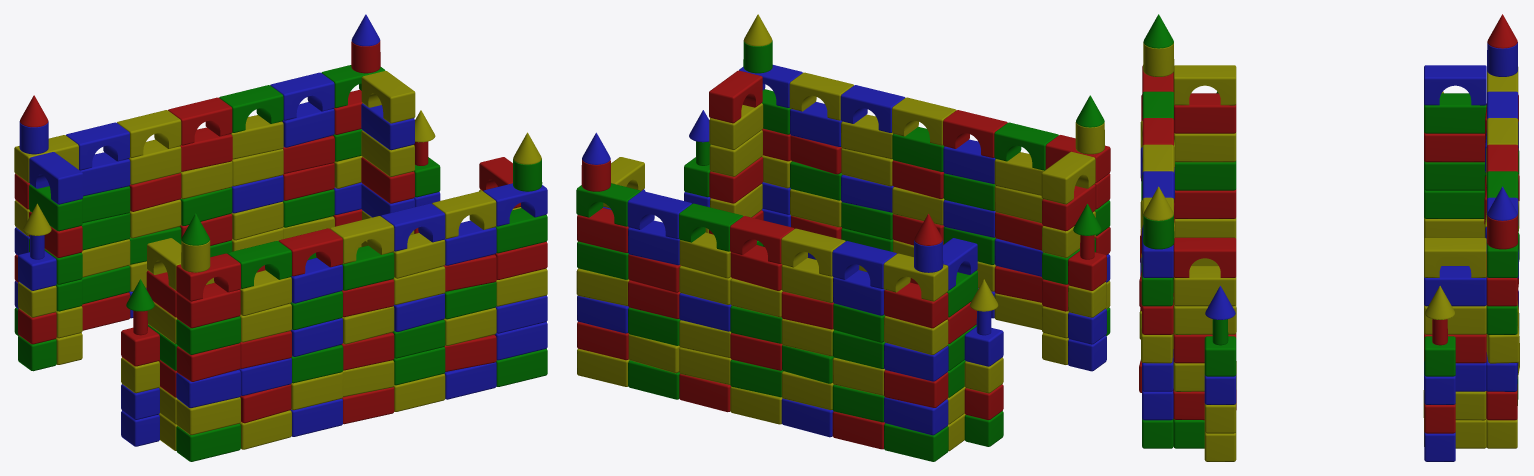
Rendered from toyCastleColored.fbx.
3 views of the same model, side by side, from view 1: azimuth 30°, elevation 25°; view 2: azimuth 150°, elevation 25°; view 3: azimuth 270°, elevation 25° (orthographic). The views are drawn at different scales.
Parts seen in each view (by area): view 1: pasted__pasted__polySurface14 (×2), pasted__pasted__pCube64 (×2), pasted__pasted__pasted__polySurface14, pCube64, polySurface14, polySurface4, polySurface9, polySurface10, polySurface12, polySurface5, polySurface11, polySurface15 (+104 smaller); view 2: pasted__pasted__pCube64 (×3), pasted__pasted__polySurface14 (×2), pasted__pasted__pCube81 (×3), pasted__polySurface14, pCube37, polySurface7, polySurface12, polySurface17, polySurface6, polySurface11, polySurface5, polySurface9 (+102 smaller); view 3: pasted__pasted__pCube64 (×3), pasted__pasted__pCube81 (×3), pasted__pasted__polySurface14 (×2), pasted__pasted__pCube61 (×3), pasted__pasted__pCube66 (×2), pasted__pasted__pCube45 (×2), pasted__polySurface14, pasted__pasted__pasted__polySurface14, pasted__pasted__pasted__pCube64, pasted__pCube45, pasted__pCube66, pasted__pasted__pasted__pCube81 (+49 smaller).
Part boxes in pixels (left/top/right/bottom): pasted__pasted__polySurface14 (×2): left=29, top=152, right=520, bottom=208; pasted__pasted__pCube64 (×2): left=29, top=184, right=177, bottom=317; pasted__pasted__pasted__polySurface14: left=361, top=71, right=415, bottom=123; pCube64: left=176, top=283, right=240, bottom=328; polySurface14: left=176, top=253, right=240, bottom=301; polySurface4: left=168, top=97, right=232, bottom=145; polySurface9: left=270, top=72, right=334, bottom=120; polySurface10: left=219, top=85, right=283, bottom=132; polySurface12: left=432, top=191, right=496, bottom=238; polySurface5: left=117, top=110, right=181, bottom=157; polySurface11: left=381, top=203, right=445, bottom=251; polySurface15: left=330, top=216, right=394, bottom=263; pasted__pasted__pCube64 (×3): left=709, top=103, right=1095, bottom=317; pasted__pasted__polySurface14 (×2): left=709, top=70, right=977, bottom=290; pasted__pasted__pCube81 (×3): left=709, top=130, right=1095, bottom=343; pasted__polySurface14: left=1041, top=151, right=1095, bottom=204; pCube37: left=884, top=282, right=948, bottom=328; polySurface7: left=883, top=253, right=948, bottom=301; polySurface12: left=789, top=72, right=853, bottom=120; polySurface17: left=994, top=122, right=1058, bottom=170; polySurface6: left=832, top=241, right=896, bottom=288; polySurface11: left=840, top=85, right=904, bottom=132; polySurface5: left=781, top=228, right=845, bottom=276; polySurface9: left=627, top=191, right=691, bottom=238; pasted__pasted__pCube64 (×3): left=1173, top=93, right=1486, bottom=306; pasted__pasted__pCube81 (×3): left=1173, top=132, right=1485, bottom=334; pasted__pasted__polySurface14 (×2): left=1173, top=65, right=1486, bottom=277; pasted__pasted__pCube61 (×3): left=1173, top=217, right=1484, bottom=420; pasted__pasted__pCube66 (×2): left=1173, top=160, right=1484, bottom=363; pasted__pasted__pCube45 (×2): left=1173, top=189, right=1484, bottom=391; pasted__polySurface14: left=1173, top=65, right=1236, bottom=105; pasted__pasted__pasted__polySurface14: left=1424, top=237, right=1486, bottom=277; pasted__pasted__pasted__pCube64: left=1424, top=266, right=1486, bottom=306; pasted__pCube45: left=1174, top=189, right=1236, bottom=218; pasted__pCube66: left=1174, top=161, right=1236, bottom=190; pasted__pasted__pasted__pCube81: left=1424, top=305, right=1486, bottom=334.
Bounding box in the file's own units: 400 × 225 × 303.
